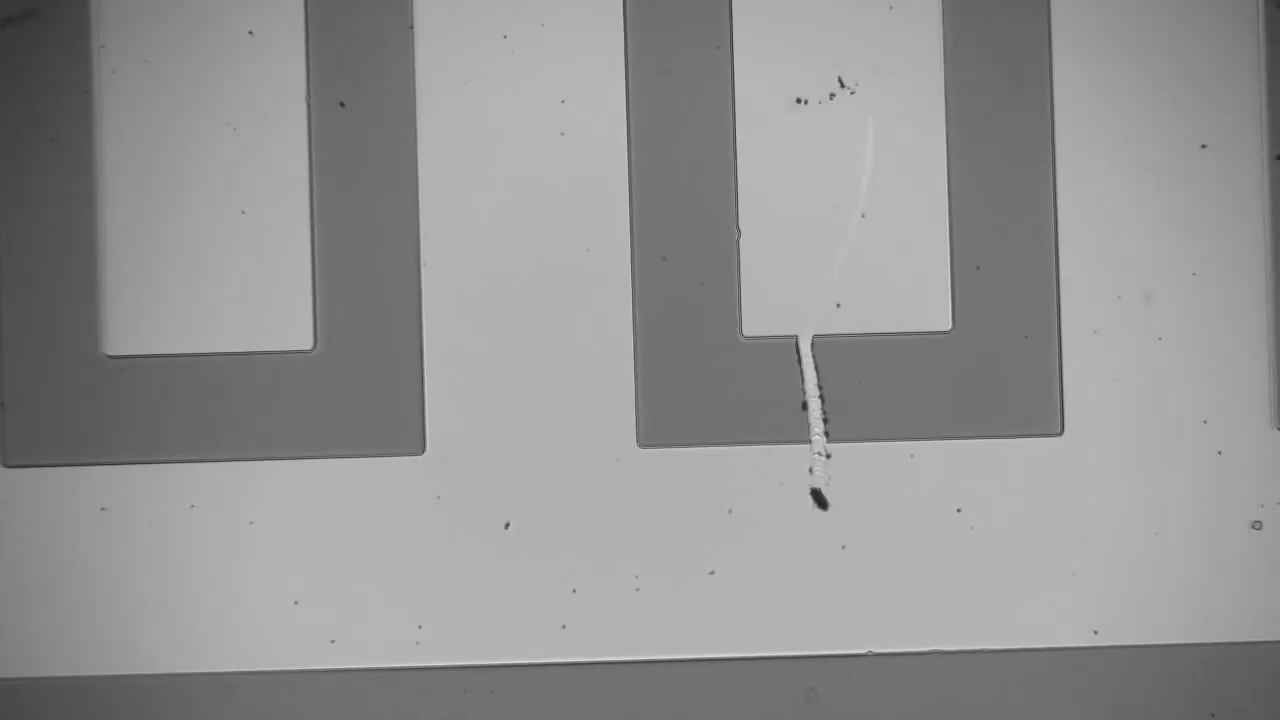Short_circuit: (779, 317, 854, 467)
